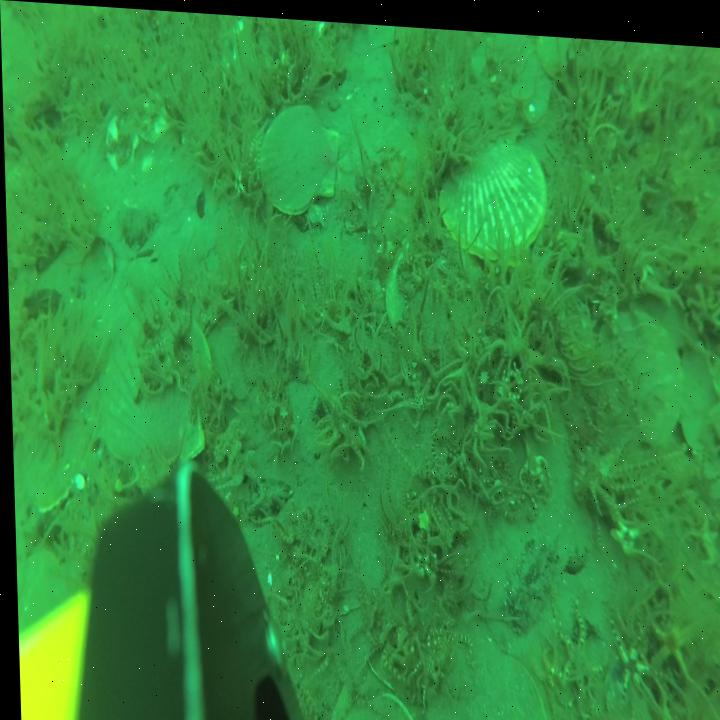scallop: (90, 298, 213, 490), (434, 131, 547, 245), (603, 299, 682, 431), (257, 96, 340, 213)
